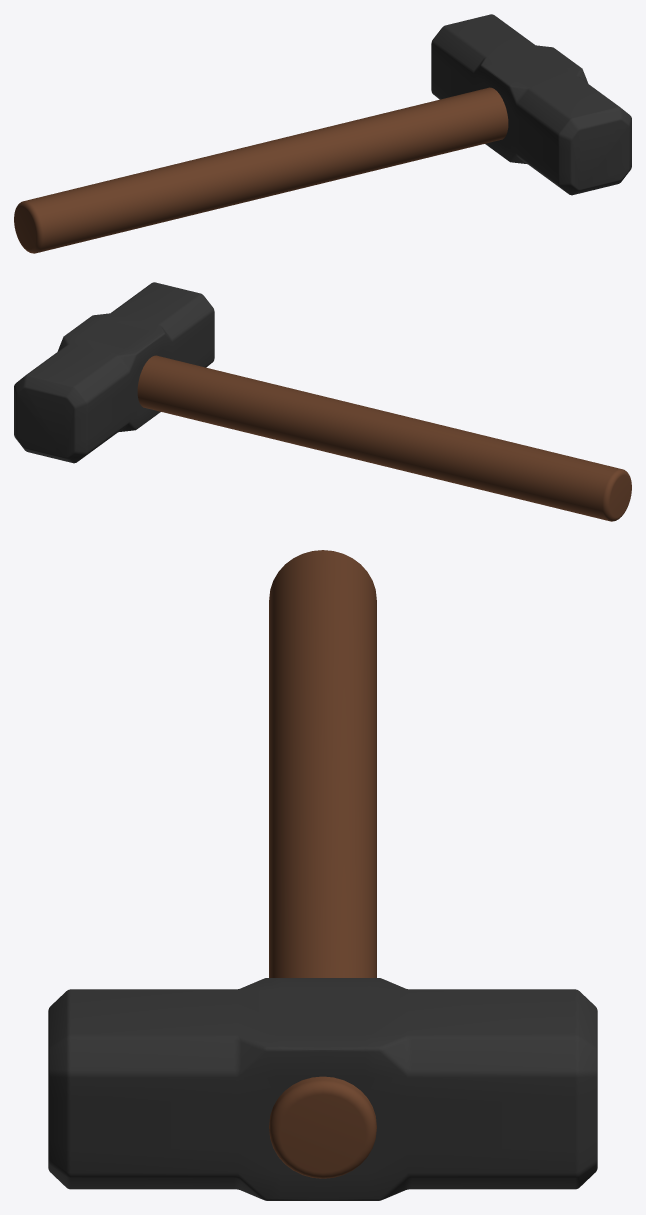
File: Long_Hammer.fbx
The picture shows the model from 3 angles, top to bottom: view 1: azimuth 30°, elevation 25°; view 2: azimuth 150°, elevation 25°; view 3: azimuth 270°, elevation 25°; orthographic projection. The views are drawn at different scales.
Parts seen in each view (by area): view 1: Cube; view 2: Cube; view 3: Cube.
Part boxes in pixels (x1,y1,x2,y2): Cube: (14,14,631,253); Cube: (14,282,631,521); Cube: (48,550,597,1200).
Bounding box in the file's own units: 229 × 30.54 × 98.76.
